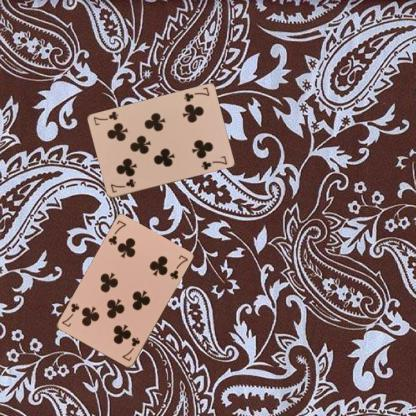7c: (119, 335, 142, 362), (106, 218, 128, 246), (108, 176, 137, 194), (181, 85, 210, 103)
